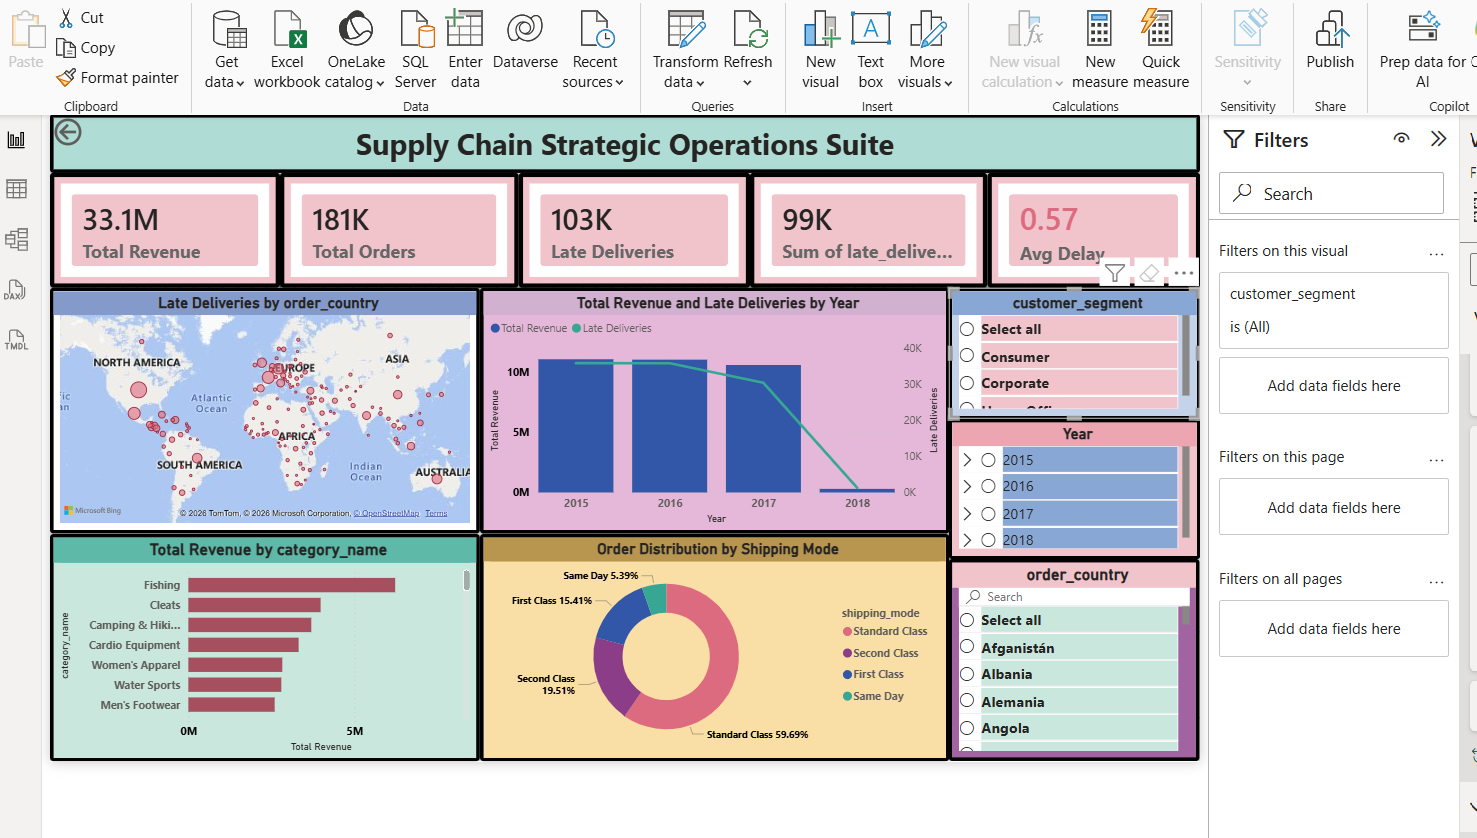

What the dashboard file says about the page in this screenshot:
{"tool":"powerbi","page":{"name":"Page 1","canvas":[1280,720],"ordinal":0},"visuals":[{"type":"textbox","box":[0,0,1280,65.4],"z":0},{"type":"cardVisual","fields":{"Data":["final_cleaned_supply_chain.Total Revenue"]},"box":[0,65.4,256,128],"z":1000},{"type":"cardVisual","fields":{"Data":["final_cleaned_supply_chain.Total Orders"]},"box":[256,65.4,265.7,128],"z":2000},{"type":"cardVisual","fields":{"Data":["final_cleaned_supply_chain.Late Deliveries"]},"box":[521.7,65.4,257.4,128],"z":3000},{"type":"cardVisual","fields":{"Data":["Sum(final_cleaned_supply_chain.late_delivery_risk)"]},"box":[779.1,65.4,264.3,128],"z":4000},{"type":"cardVisual","fields":{"Data":["final_cleaned_supply_chain.Avg Delay"]},"box":[1043.5,65.4,236.5,128],"z":5000},{"type":"map","fields":{"Size":["final_cleaned_supply_chain.Late Deliveries"],"Category":["final_cleaned_supply_chain.order_country"]},"box":[0,193.5,478.5,273.5],"z":6000},{"type":"actionButton","box":[0,0,100,40],"z":7000},{"type":"lineStackedColumnComboChart","fields":{"Y2":["final_cleaned_supply_chain.Late Deliveries"],"Y":["final_cleaned_supply_chain.Total Revenue"],"Category":["final_cleaned_supply_chain.order_date_dateorders.Variation.Date Hierarchy.Year","final_cleaned_supply_chain.order_date_dateorders.Variation.Date Hierarchy.Month"]},"box":[478.5,193.5,522.2,273.5],"z":8000},{"type":"clusteredBarChart","fields":{"Category":["final_cleaned_supply_chain.category_name"],"Y":["final_cleaned_supply_chain.Total Revenue"]},"box":[0,466.9,478.5,253.1],"z":9000},{"type":"donutChart","title":"Order Distribution by Shipping Mode","fields":{"Category":["final_cleaned_supply_chain.shipping_mode"],"Y":["final_cleaned_supply_chain.Total Orders"]},"box":[479,467,522,253],"z":9001},{"type":"listSlicer","fields":{"Values":["final_cleaned_supply_chain.customer_segment"]},"box":[1000.3,193.4,279.7,146.1],"z":9002},{"type":"listSlicer","fields":{"Values":["final_cleaned_supply_chain.order_date_dateorders.Variation.Date Hierarchy.Year","final_cleaned_supply_chain.order_date_dateorders.Variation.Date Hierarchy.Quarter","final_cleaned_supply_chain.order_date_dateorders.Variation.Date Hierarchy.Month","final_cleaned_supply_chain.order_date_dateorders.Variation.Date Hierarchy.Day"]},"box":[1000.3,339.5,279.7,155.8],"z":9003},{"type":"listSlicer","fields":{"Values":["final_cleaned_supply_chain.order_country"]},"box":[1001,495,279,225],"z":9004}]}

Visuals, with their boxes on the page's 1280x720 design canvas (x1, y1, x2, y2). These are canvas units, not pixel positions in the 1477x838 screenshot, which may show the page scaled, cropped or inside an application window:
textbox: 0 0 1280 65
cardVisual - final_cleaned_supply_chain.Total Revenue: 0 65 256 193
cardVisual - final_cleaned_supply_chain.Total Orders: 256 65 522 193
cardVisual - final_cleaned_supply_chain.Late Deliveries: 522 65 779 193
cardVisual - Sum(final_cleaned_supply_chain.late_delivery_risk): 779 65 1043 193
cardVisual - final_cleaned_supply_chain.Avg Delay: 1044 65 1280 193
map - final_cleaned_supply_chain.Late Deliveries x final_cleaned_supply_chain.order_country: 0 194 478 467
actionButton: 0 0 100 40
lineStackedColumnComboChart - final_cleaned_supply_chain.Late Deliveries x final_cleaned_supply_chain.Total Revenue: 478 194 1001 467
clusteredBarChart - final_cleaned_supply_chain.category_name x final_cleaned_supply_chain.Total Revenue: 0 467 478 720
"Order Distribution by Shipping Mode" donutChart: 479 467 1001 720
listSlicer - final_cleaned_supply_chain.customer_segment: 1000 193 1280 340
listSlicer - final_cleaned_supply_chain.order_date_dateorders.Variation.Date Hierarchy.Year x final_cleaned_supply_chain.order_date_dateorders.Variation.Date Hierarchy.Quarter: 1000 340 1280 495
listSlicer - final_cleaned_supply_chain.order_country: 1001 495 1280 720
